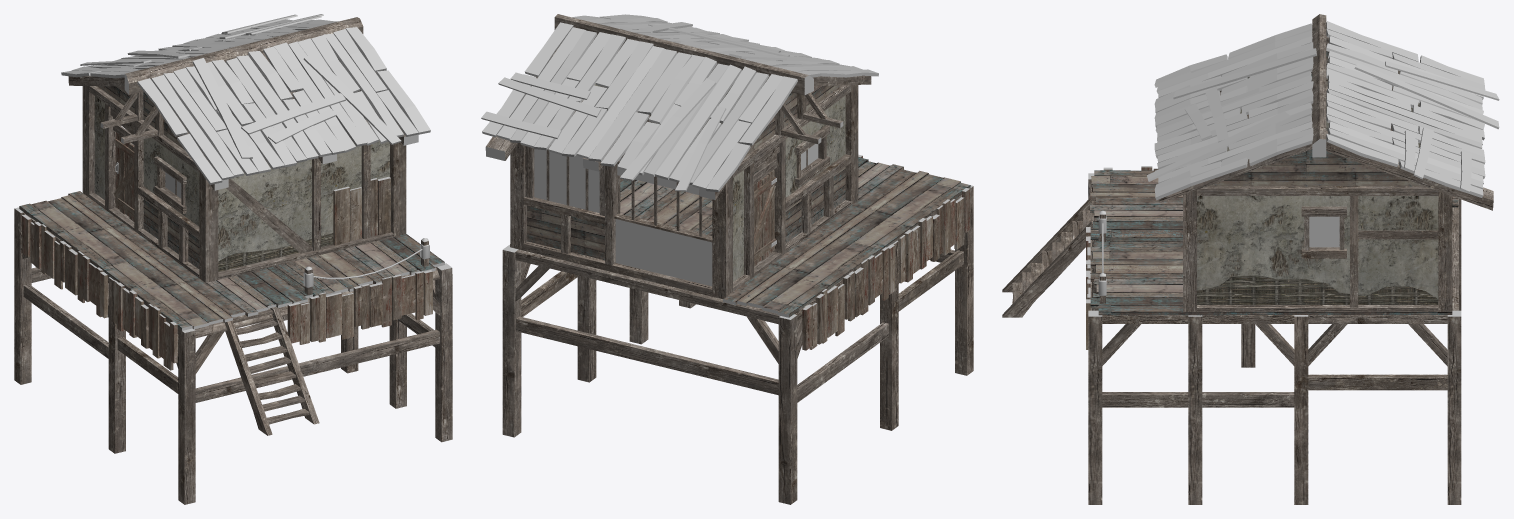
File: House4.fbx
The picture shows the model from 3 angles, left to right: view 1: azimuth 30°, elevation 25°; view 2: azimuth 150°, elevation 25°; view 3: azimuth 270°, elevation 25°; orthographic projection. The views are drawn at different scales.
Parts seen in each view (by area): view 1: Base, Stairs, Doors; view 2: Base, Doors; view 3: Base, Stairs.
Boxes of the visible parts, x1,y1,x2,y2 form: Base: (14, 14, 452, 504); Stairs: (224, 306, 319, 435); Doors: (114, 132, 134, 221); Base: (481, 14, 973, 504); Doors: (754, 170, 776, 266); Base: (1086, 14, 1499, 504); Stairs: (1002, 198, 1096, 317).
Size of the model in its own units: 9.01 by 10.03 by 12.09.
